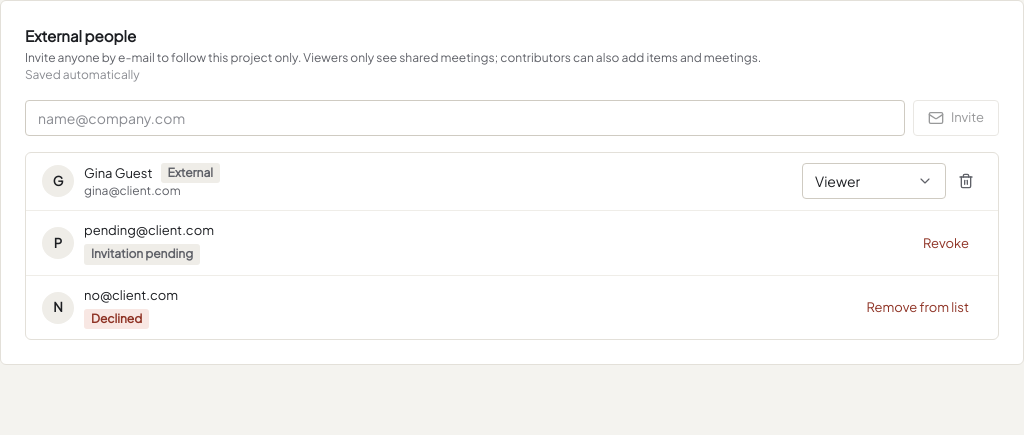
Test: ExternalPeopleSection (Story 12.15) › shows a message for 409 already_invited
In the field named "Person's e-mail": (465, 118) [25,100,905,136], type "x@client.com"
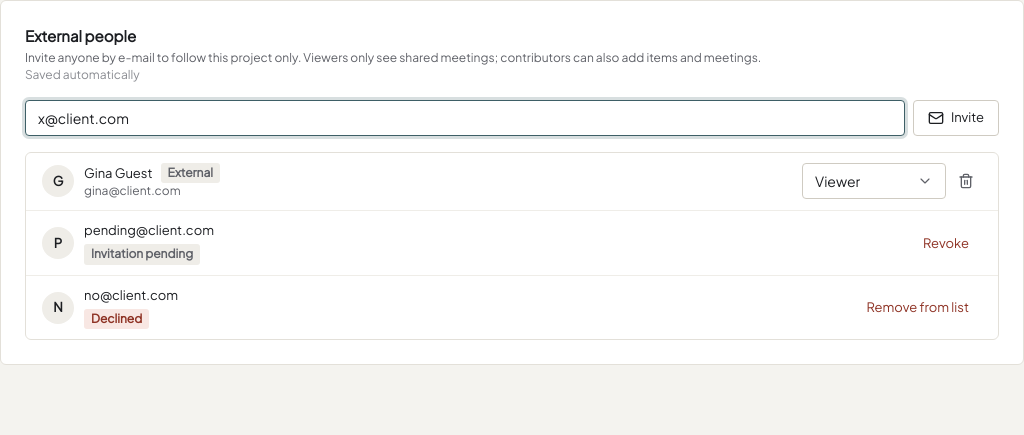
Click the button "Invite": (956, 118) [913,100,999,136]
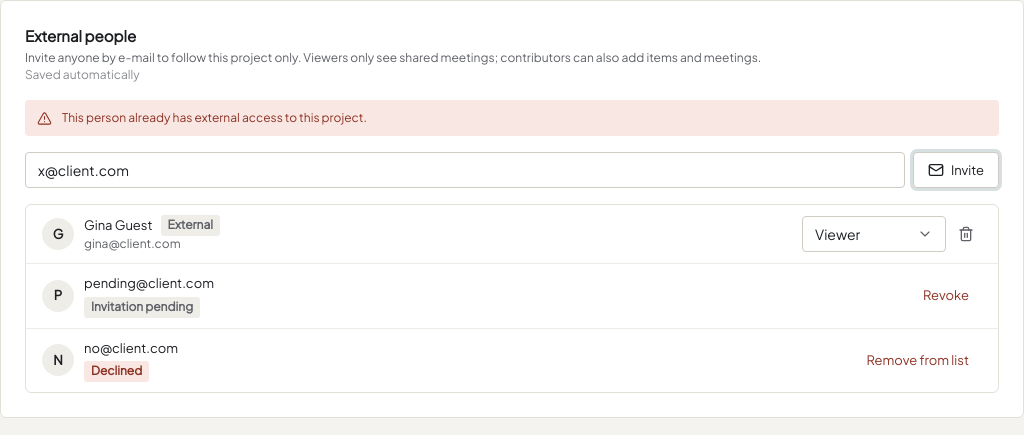
expect the message reads "This person already has external access to this project.": met, box [62,110,367,125]
